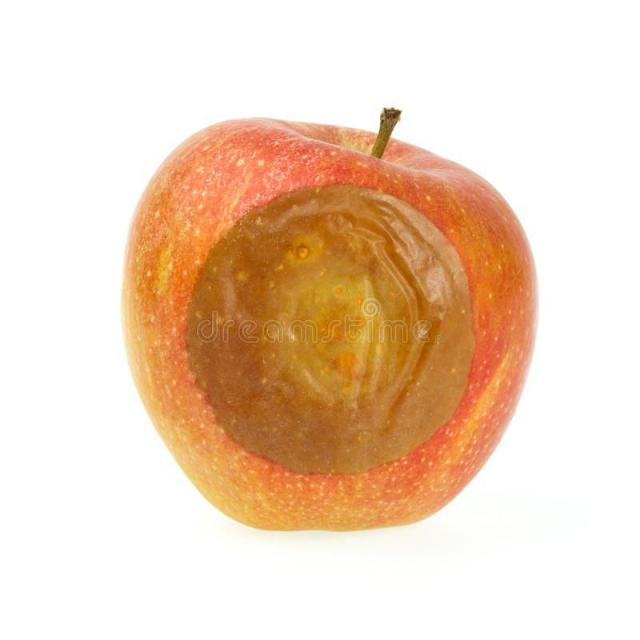Rotten: (132, 106, 543, 562)
